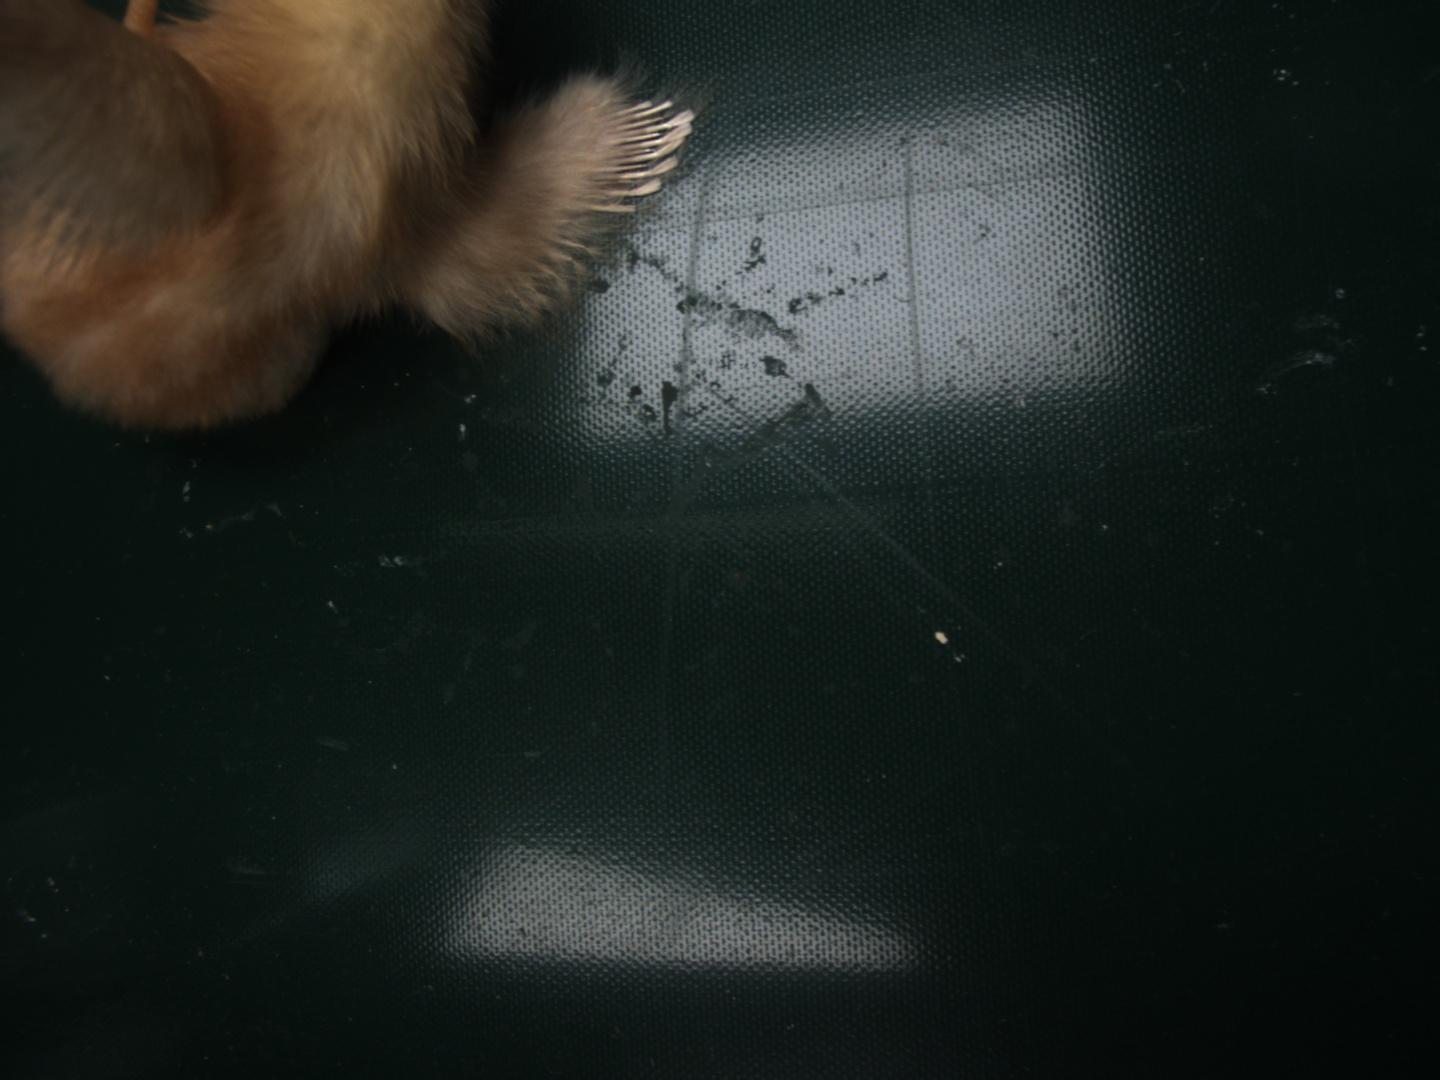female: (577, 101, 694, 212)
